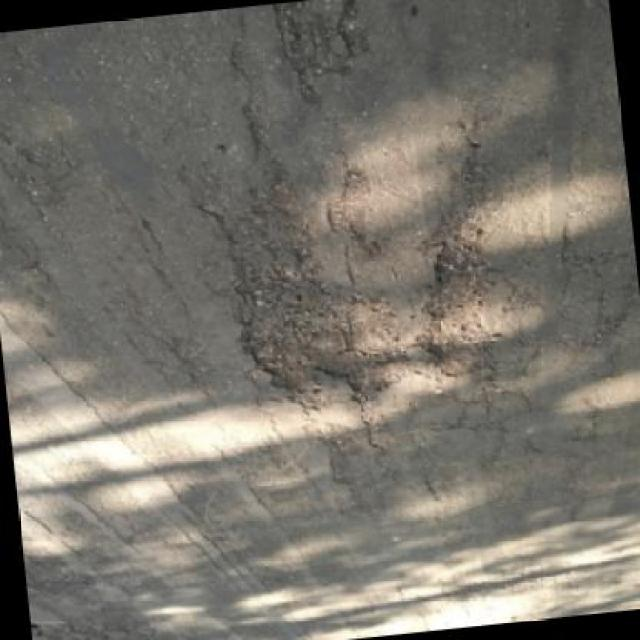pothole1: (229, 253, 422, 419), (413, 220, 505, 383)
